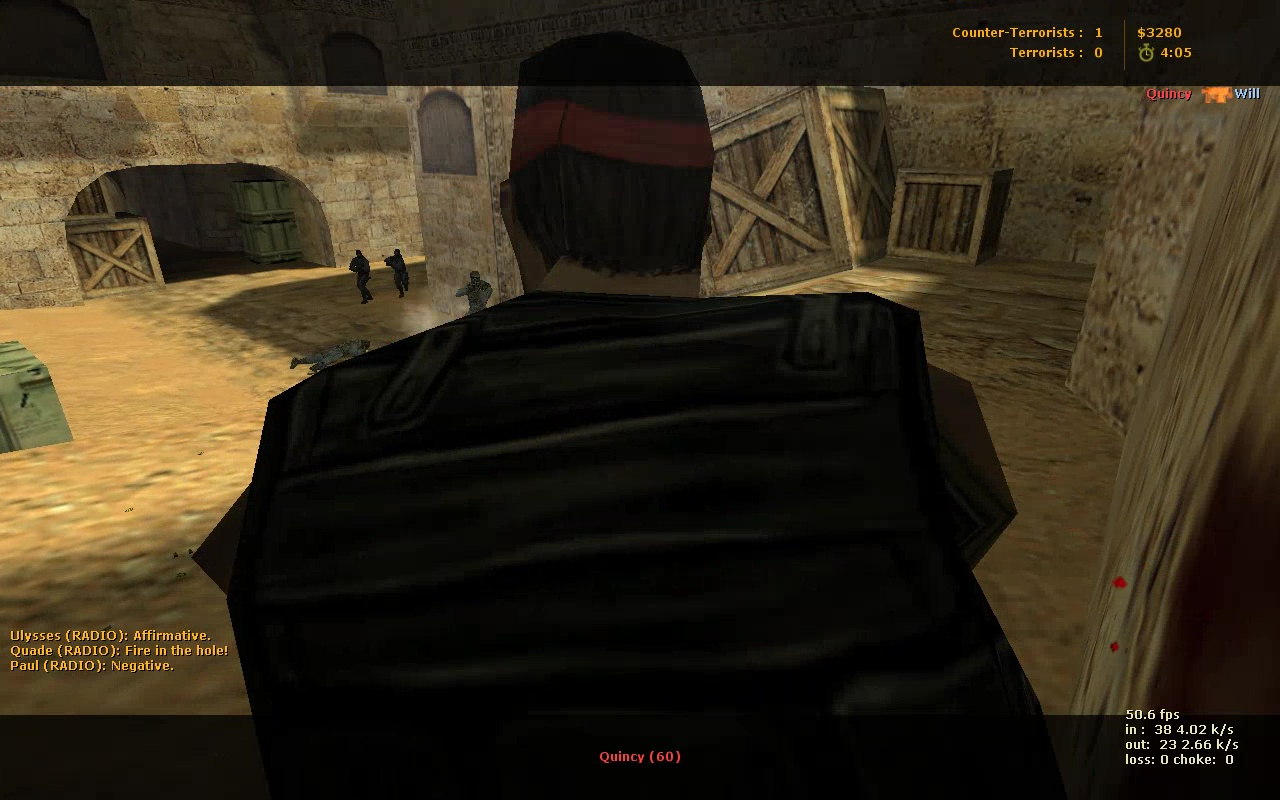ct: (454, 270, 493, 318), (346, 249, 377, 303), (385, 247, 413, 297)
dead: (286, 337, 374, 375)
